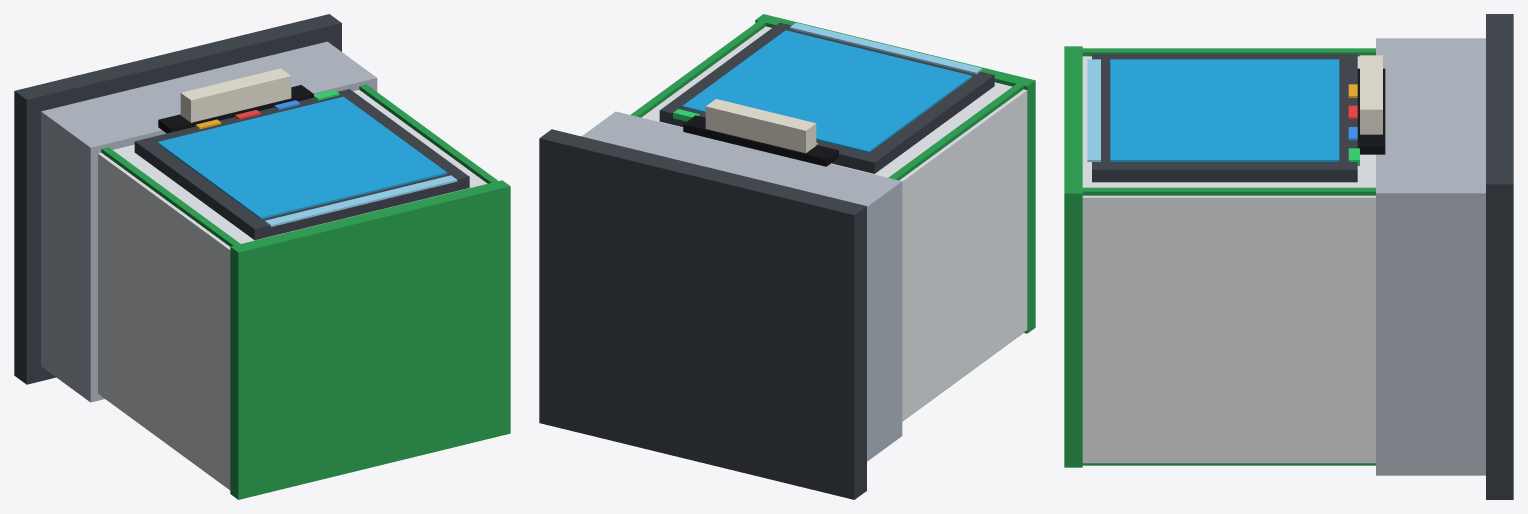
Rendered from self_endorsement.obj.
The picture shows the model from 3 angles, left to right: view 1: azimuth 30°, elevation 25°; view 2: azimuth 150°, elevation 25°; view 3: azimuth 270°, elevation 25°; orthographic projection. The views are drawn at different scales.
Parts seen in each view (by area): view 1: DEV_08_self_endorsement_accent, DEV_02_self_endorsement_body, DEV_01_self_endorsement_body2, DEV_04_self_endorsement_screen, DEV_00_self_endorsement_trim, DEV_03_self_endorsement_trim, DEV_06_self_endorsement_paper, DEV_07_self_endorsement_screen2, DEV_10_self_endorsement_accent, DEV_09_self_endorsement_accent, DEV_05_self_endorsement_slot; view 2: DEV_00_self_endorsement_trim, DEV_02_self_endorsement_body, DEV_01_self_endorsement_body2, DEV_04_self_endorsement_screen, DEV_03_self_endorsement_trim, DEV_06_self_endorsement_paper, DEV_08_self_endorsement_accent, DEV_05_self_endorsement_slot, DEV_07_self_endorsement_screen2, DEV_10_self_endorsement_accent, DEV_09_self_endorsement_accent; view 3: DEV_02_self_endorsement_body, DEV_01_self_endorsement_body2, DEV_04_self_endorsement_screen, DEV_00_self_endorsement_trim, DEV_03_self_endorsement_trim, DEV_08_self_endorsement_accent, DEV_09_self_endorsement_accent, DEV_06_self_endorsement_paper, DEV_10_self_endorsement_accent, DEV_07_self_endorsement_screen2, DEV_05_self_endorsement_slot.
Part boxes in pixels (x1=…): DEV_08_self_endorsement_accent: x1=230, y1=180, x2=510, y2=499; DEV_02_self_endorsement_body: x1=98, y1=90, x2=487, y2=489; DEV_01_self_endorsement_body2: x1=41, y1=41, x2=377, y2=402; DEV_04_self_endorsement_screen: x1=157, y1=96, x2=446, y2=219; DEV_00_self_endorsement_trim: x1=14, y1=14, x2=341, y2=384; DEV_03_self_endorsement_trim: x1=134, y1=89, x2=469, y2=240; DEV_06_self_endorsement_paper: x1=180, y1=68, x2=291, y2=122; DEV_07_self_endorsement_screen2: x1=265, y1=175, x2=457, y2=226; DEV_10_self_endorsement_accent: x1=101, y1=147, x2=240, y2=489; DEV_09_self_endorsement_accent: x1=359, y1=84, x2=497, y2=183; DEV_05_self_endorsement_slot: x1=158, y1=85, x2=313, y2=133; DEV_00_self_endorsement_trim: x1=539, y1=129, x2=866, y2=499; DEV_02_self_endorsement_body: x1=642, y1=26, x2=1027, y2=420; DEV_01_self_endorsement_body2: x1=582, y1=111, x2=902, y2=461; DEV_04_self_endorsement_screen: x1=682, y1=30, x2=971, y2=152; DEV_03_self_endorsement_trim: x1=659, y1=22, x2=994, y2=173; DEV_06_self_endorsement_paper: x1=705, y1=99, x2=816, y2=153; DEV_08_self_endorsement_accent: x1=755, y1=14, x2=1035, y2=333; DEV_05_self_endorsement_slot: x1=683, y1=115, x2=838, y2=166; DEV_07_self_endorsement_screen2: x1=790, y1=22, x2=982, y2=74; DEV_10_self_endorsement_accent: x1=888, y1=84, x2=1023, y2=421; DEV_09_self_endorsement_accent: x1=630, y1=21, x2=765, y2=117; DEV_02_self_endorsement_body: x1=1082, y1=56, x2=1375, y2=463; DEV_01_self_endorsement_body2: x1=1376, y1=38, x2=1485, y2=475; DEV_04_self_endorsement_screen: x1=1110, y1=59, x2=1339, y2=161; DEV_00_self_endorsement_trim: x1=1486, y1=14, x2=1513, y2=499; DEV_03_self_endorsement_trim: x1=1092, y1=53, x2=1357, y2=182; DEV_08_self_endorsement_accent: x1=1064, y1=46, x2=1082, y2=467; DEV_09_self_endorsement_accent: x1=1082, y1=187, x2=1375, y2=465; DEV_06_self_endorsement_paper: x1=1360, y1=55, x2=1382, y2=134; DEV_10_self_endorsement_accent: x1=1082, y1=48, x2=1375, y2=56; DEV_07_self_endorsement_screen2: x1=1087, y1=59, x2=1100, y2=161; DEV_05_self_endorsement_slot: x1=1357, y1=68, x2=1385, y2=154.
Size of the model in its own units: 0.88 by 0.8 by 0.98.
